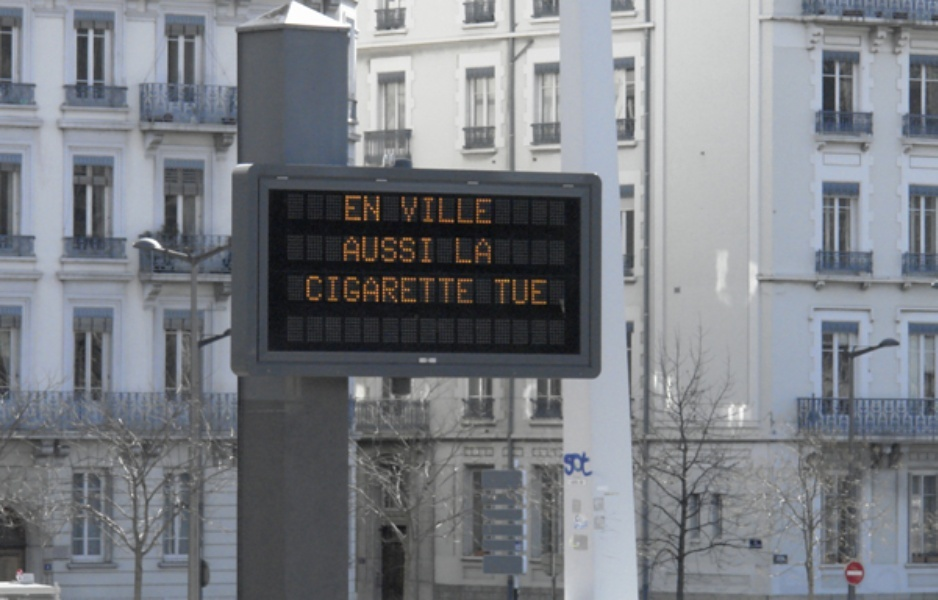text: (321, 274, 336, 307), (337, 274, 352, 307), (353, 274, 368, 307), (369, 274, 384, 307), (385, 274, 400, 307), (401, 274, 416, 307), (417, 274, 432, 307), (433, 274, 448, 307), (449, 274, 464, 307), (401, 194, 416, 226), (417, 194, 432, 226), (433, 194, 448, 226), (449, 194, 464, 226), (465, 194, 480, 226), (353, 193, 368, 224), (369, 193, 384, 224), (465, 236, 480, 266), (497, 277, 512, 307), (513, 277, 528, 307), (529, 277, 544, 307), (561, 449, 576, 479), (577, 449, 592, 479), (481, 194, 495, 226), (307, 274, 320, 307), (353, 236, 368, 263), (369, 236, 384, 263), (385, 236, 400, 263), (401, 236, 416, 263), (417, 236, 432, 263), (465, 274, 477, 307), (481, 236, 493, 266), (454, 236, 464, 266), (344, 193, 352, 224), (344, 236, 352, 263), (545, 277, 549, 307), (493, 277, 496, 307), (593, 449, 595, 479), (433, 236, 435, 263), (399, 194, 400, 226)
